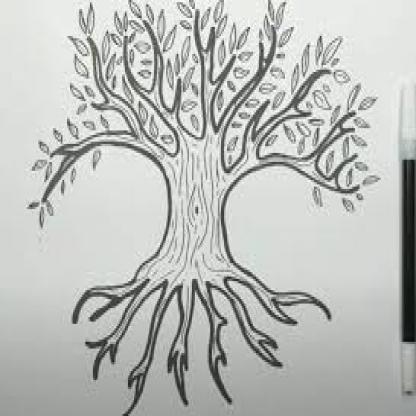branch_sharp: (29, 4, 367, 226)
root_only: (69, 250, 334, 414)
trunk_bark: (158, 192, 234, 246)
